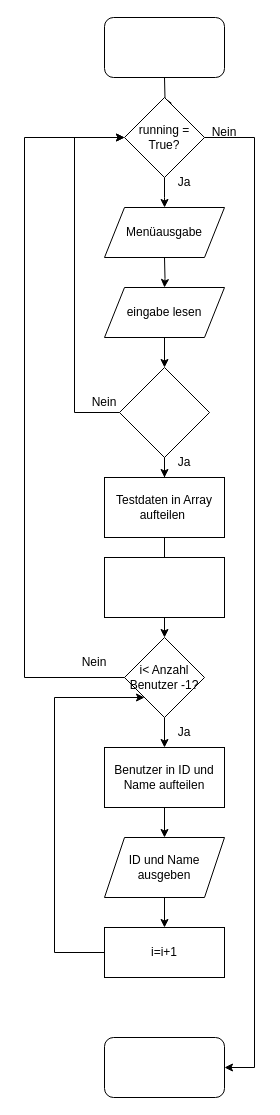
Some shapes in this 280 by 1115 pixel diagram are drawn without their labels. The shapes that lost their labels are listed below. From the top down, each one's centre as x and y in pixels, then its label:
At pixel 164 47: "Start".
At pixel 164 412: "Menüauswahl = 3?".
At pixel 164 587: "i=0".
At pixel 164 1067: "Ende".
